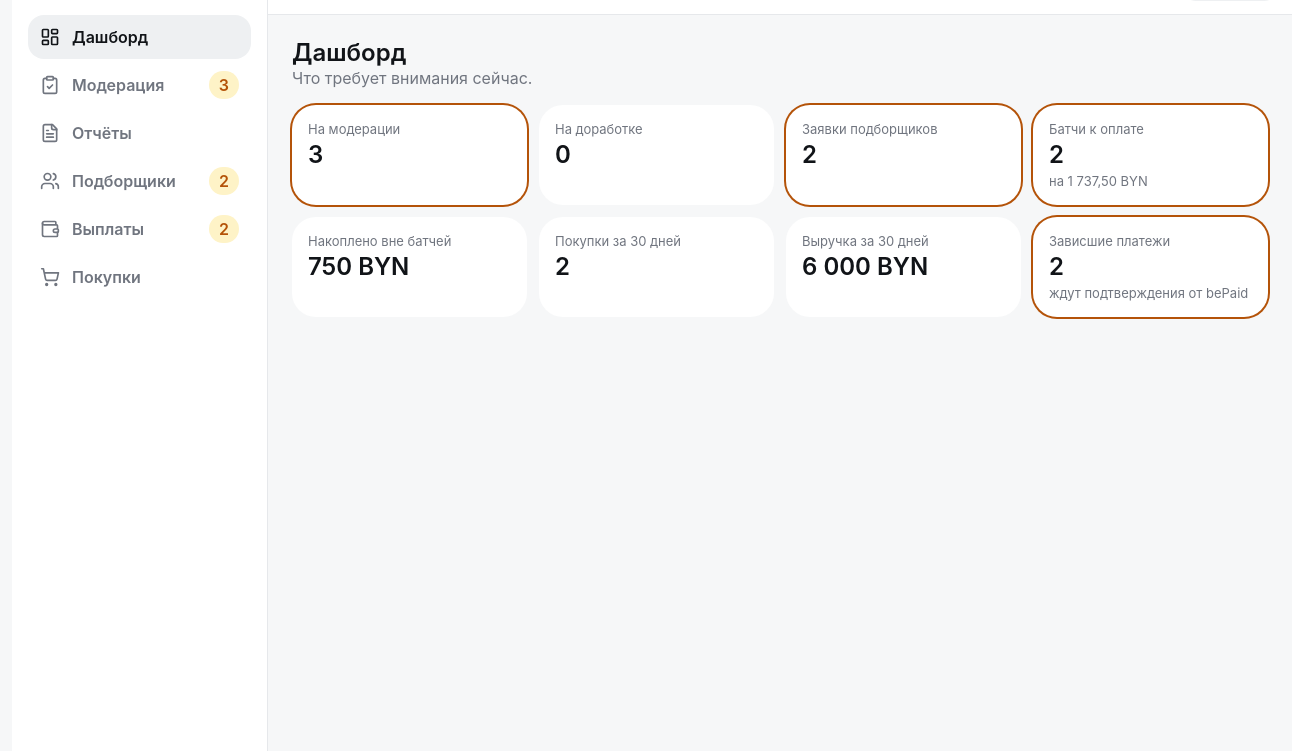
Test case: дашборд › карточка pendingReview ведёт на отфильтрованный список /moderation
The width and height of the screenshot is (1292, 751).
Click the link "На модерации 3" at (410,155), box [292,105,527,205]
(page scrolled)
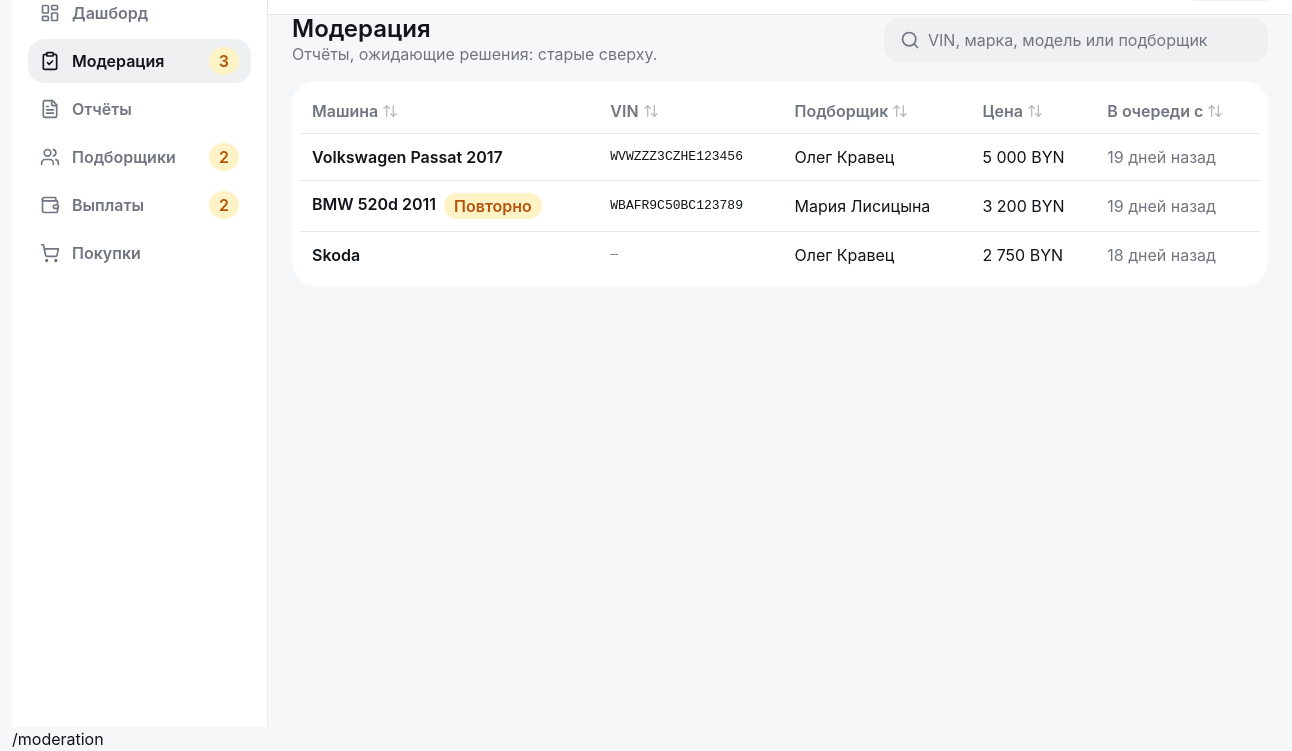
Check: the text with test id "location" reads "/moderation", box [12,729,104,749]
